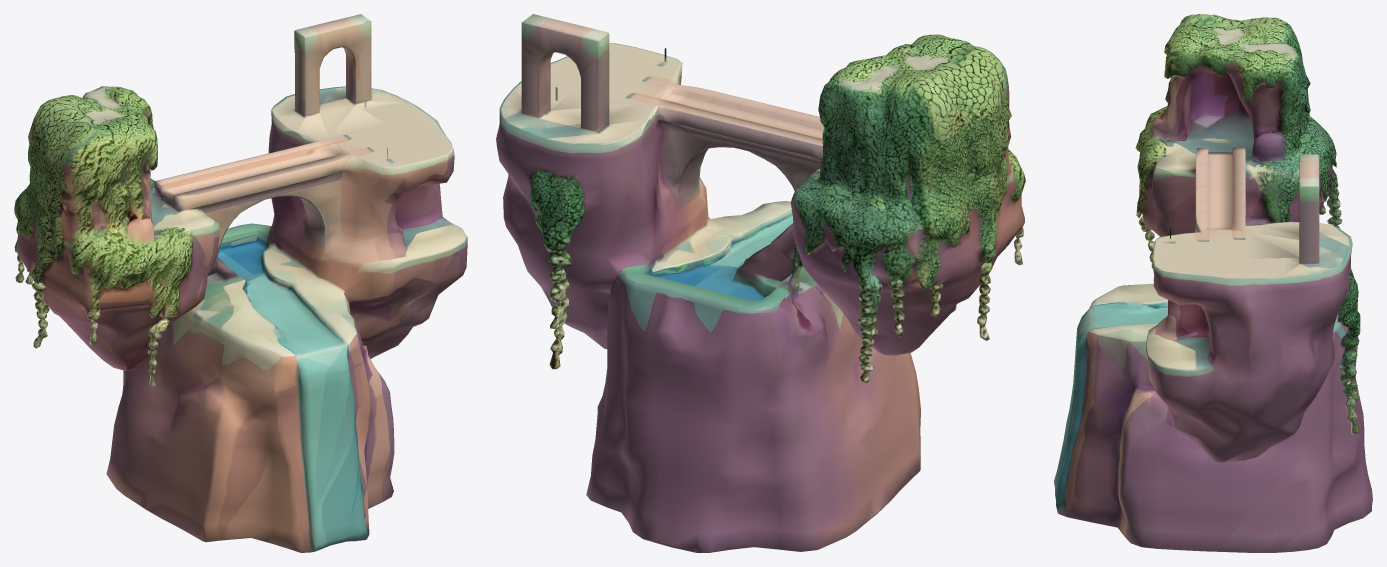
File: Habitat_2 2.glb
3 renders of one model, left to right at view 1: azimuth 30°, elevation 25°; view 2: azimuth 150°, elevation 25°; view 3: azimuth 270°, elevation 25°, orthographic. The views are drawn at different scales.
Size of the model in its own units: 1.9 by 1.82 by 1.3.
1 material, 1 textured.
